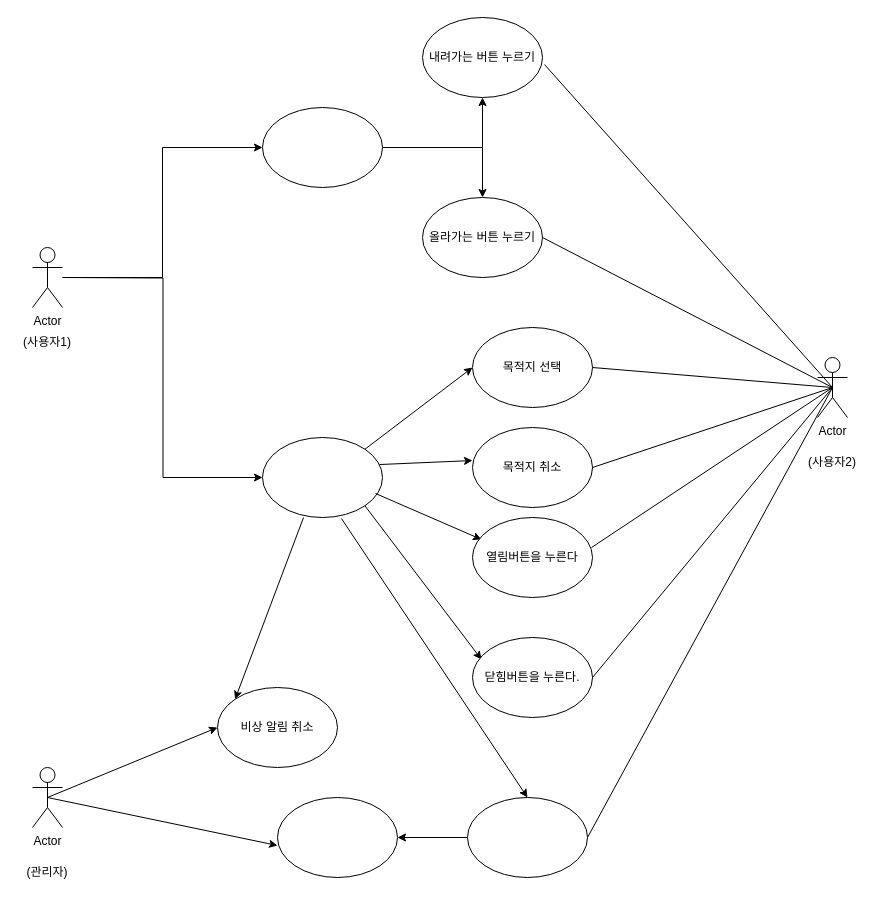
This 879x905 diagram has some shape labels left out. The shapes that lost their labels are listed below. From the top down, each one's centre as x and y in pixels, then its label:
At point 322,147: "엘레베이터 밖".
At point 322,477: "엘레베이터 안".
At point 337,837: "비상 알람 승인".
At point 527,837: "비상 버튼으로 비상 알람 보내기".
